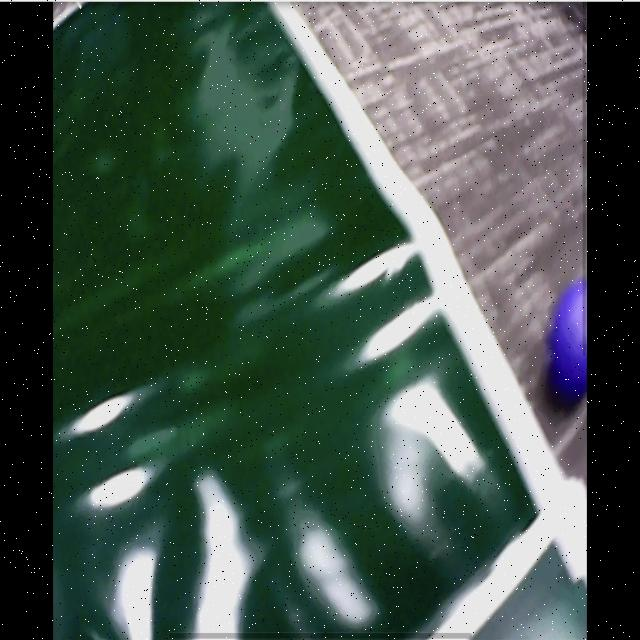ball: (553, 276, 588, 401)
